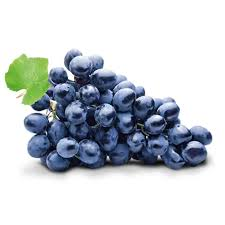Black grapes: (13, 49, 218, 180)
